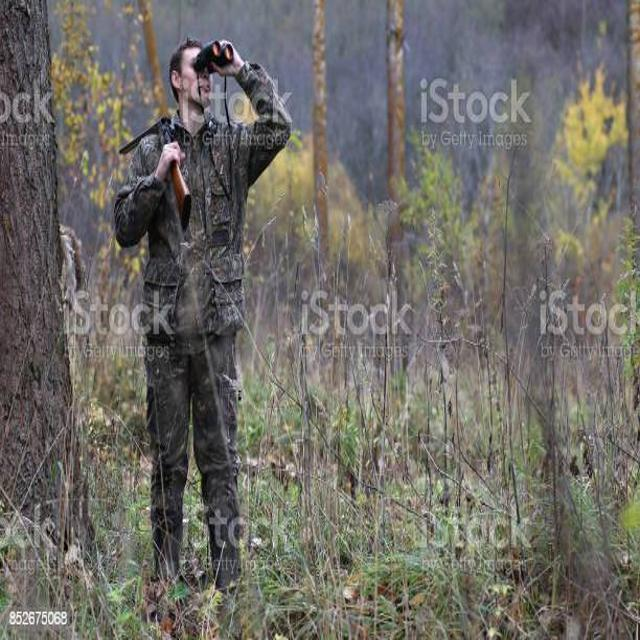gun: (102, 99, 221, 247)
poacher: (76, 25, 327, 617)
